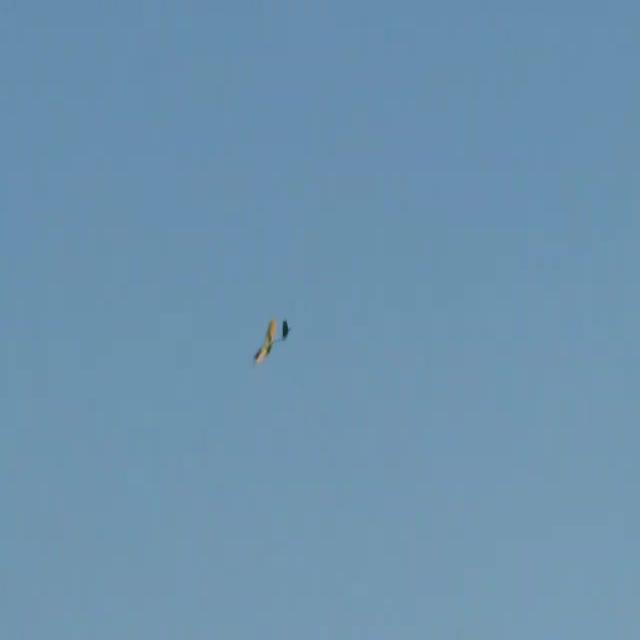iha: (251, 316, 293, 365)
